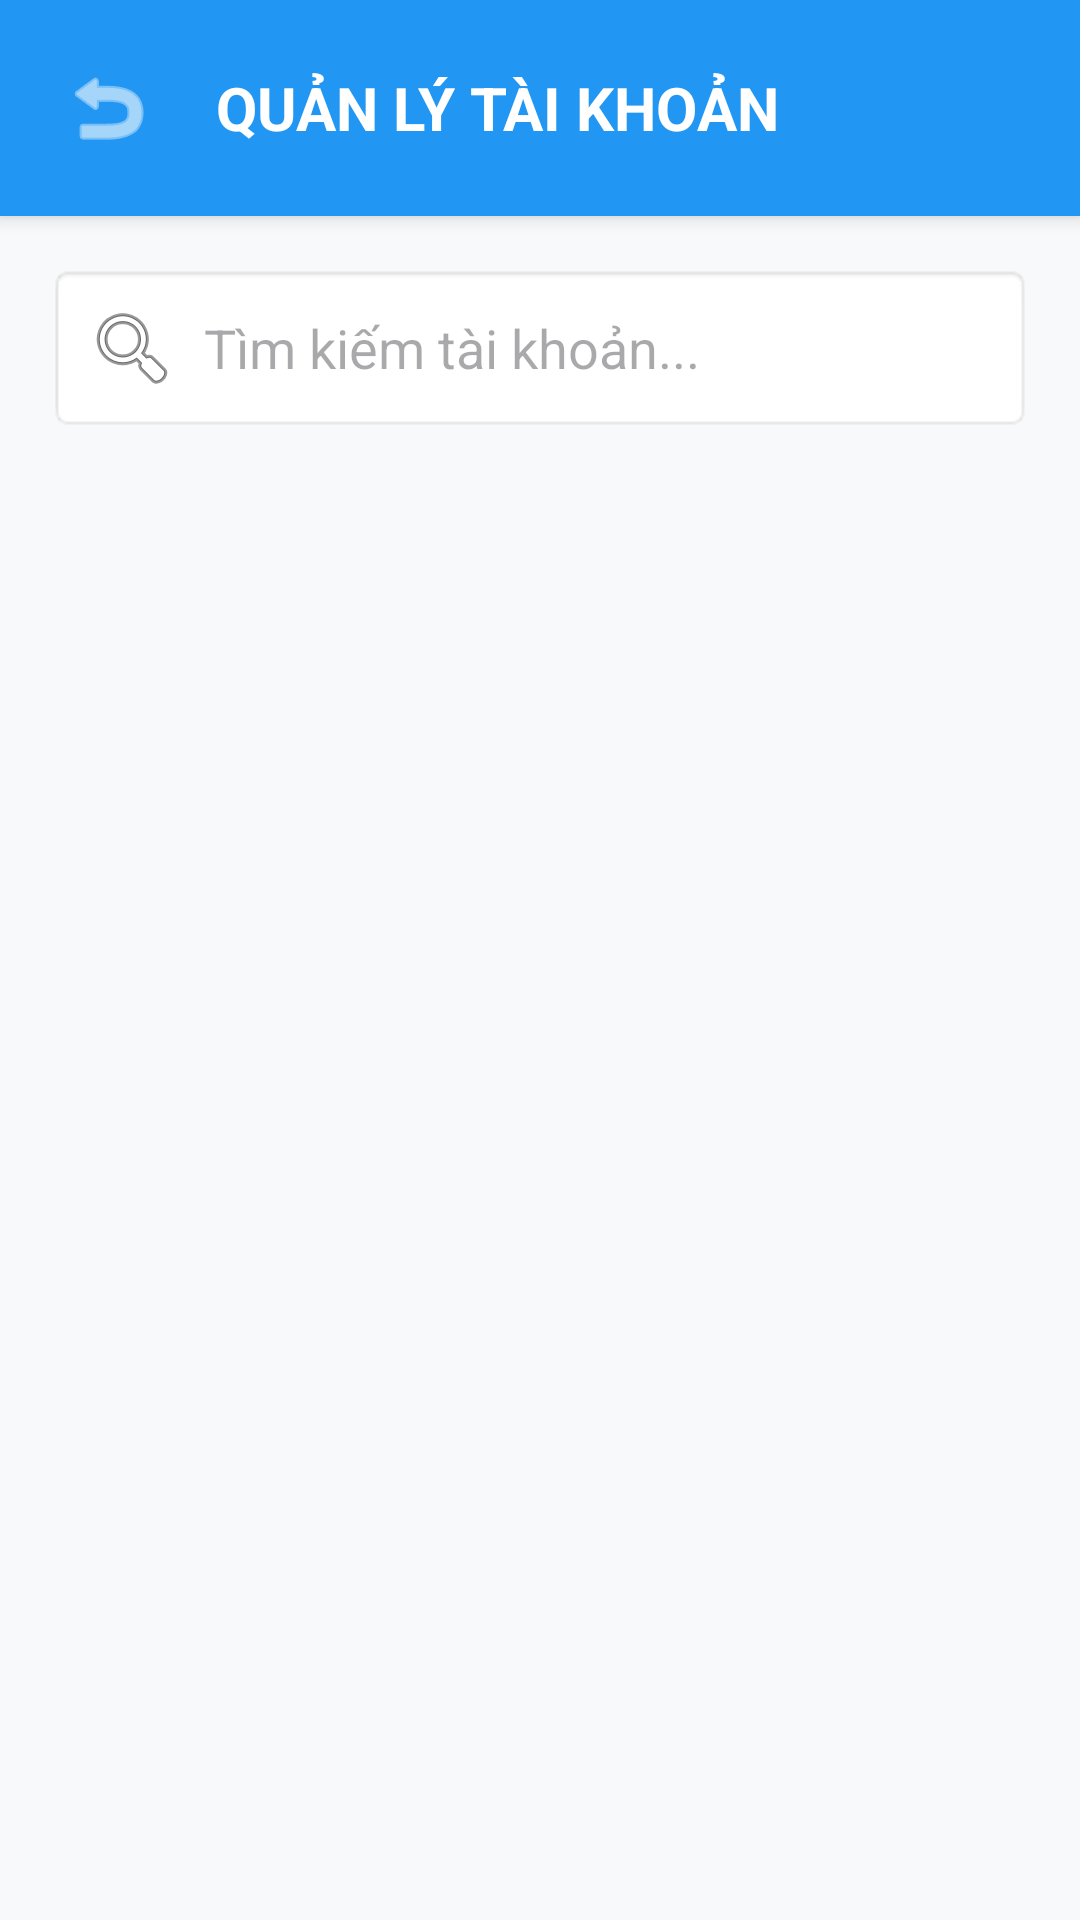

Icons on this 1080px x 1920px Android screen, each with its box as (x1, y1, x2, y2):
revert: (75, 77, 144, 140)
